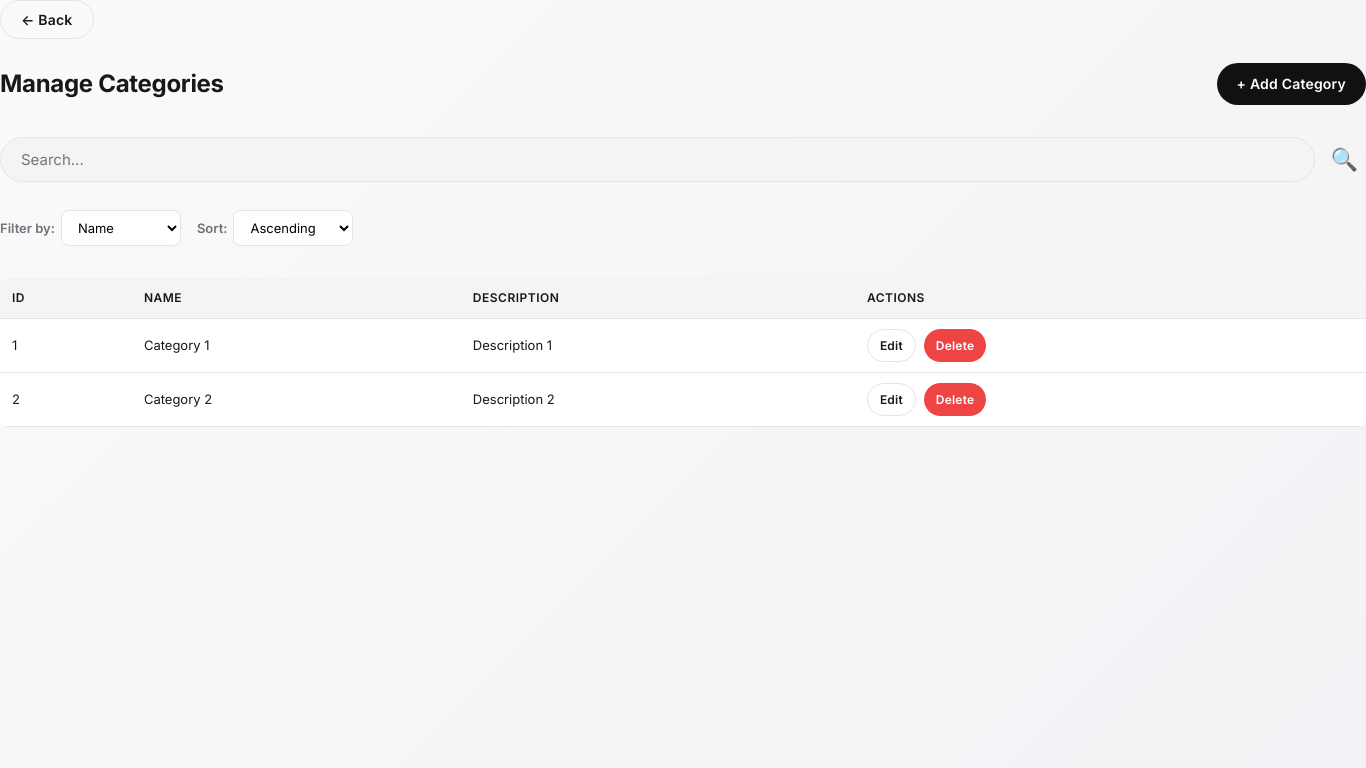
Test case: AdminCategories › Delete › should disable delete button while deleting
Click the button "Delete" in the row of "Category 1". click: (955, 345)
box: top-left (924, 329), bottom-right (986, 362)
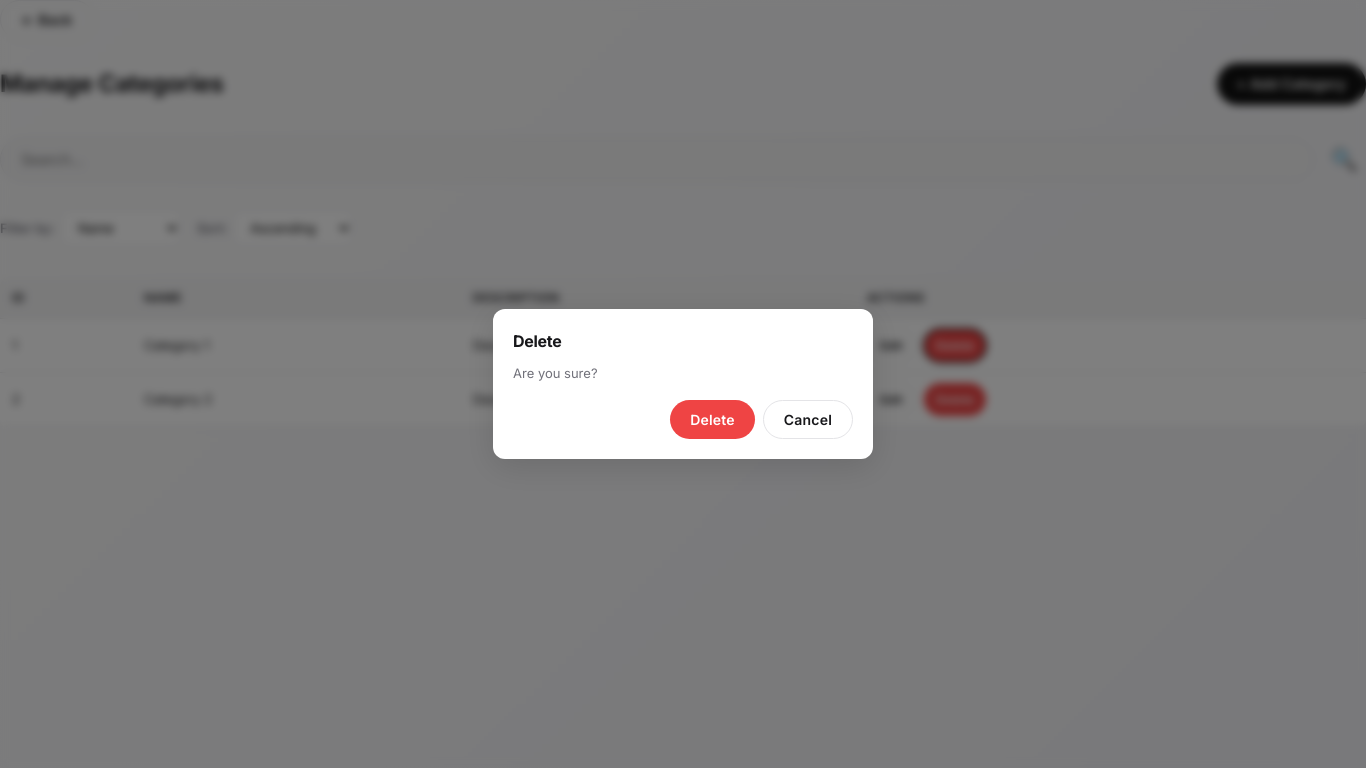
Click the button with class "btn-danger" showing "Delete". click: (712, 419)
box: top-left (670, 400), bottom-right (755, 439)
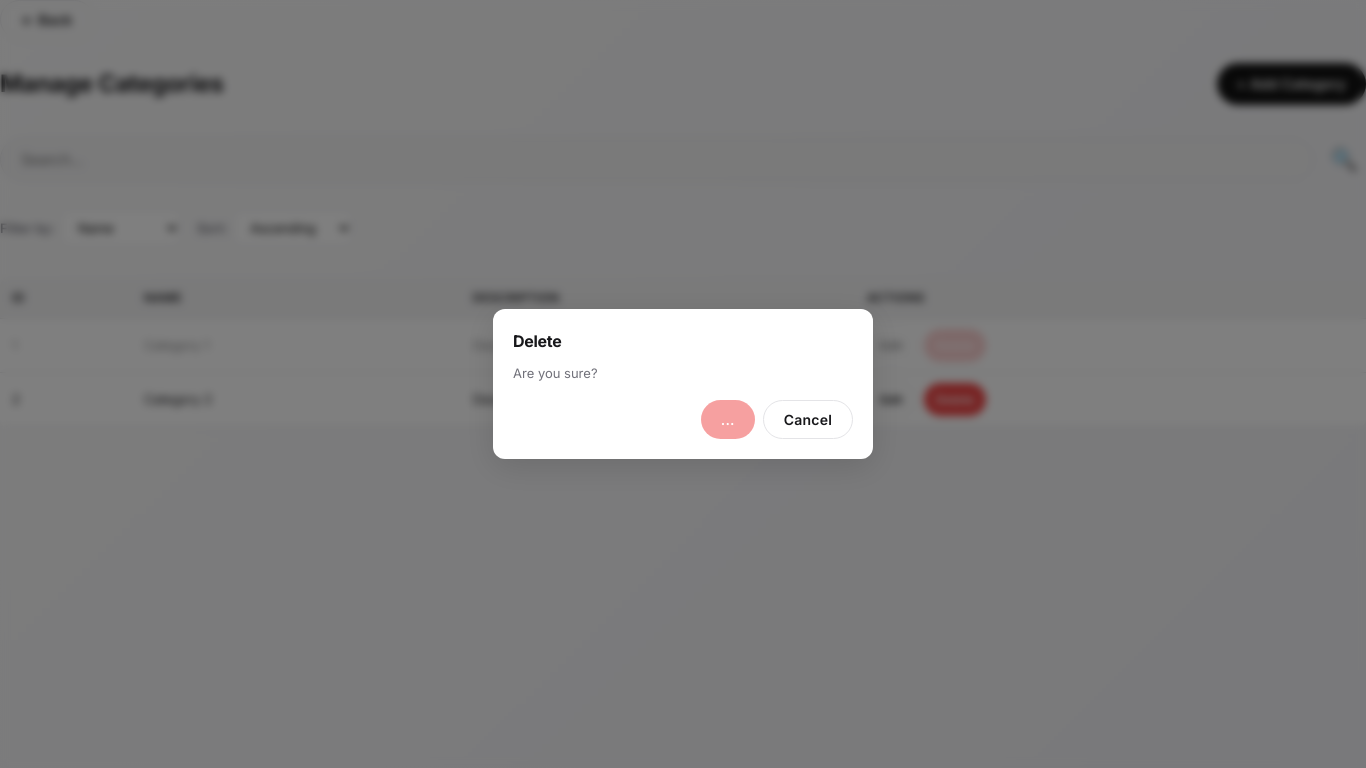
Expected: the button with class "btn-danger" showing "..." is disabled, top-left (701, 400), bottom-right (755, 439)
